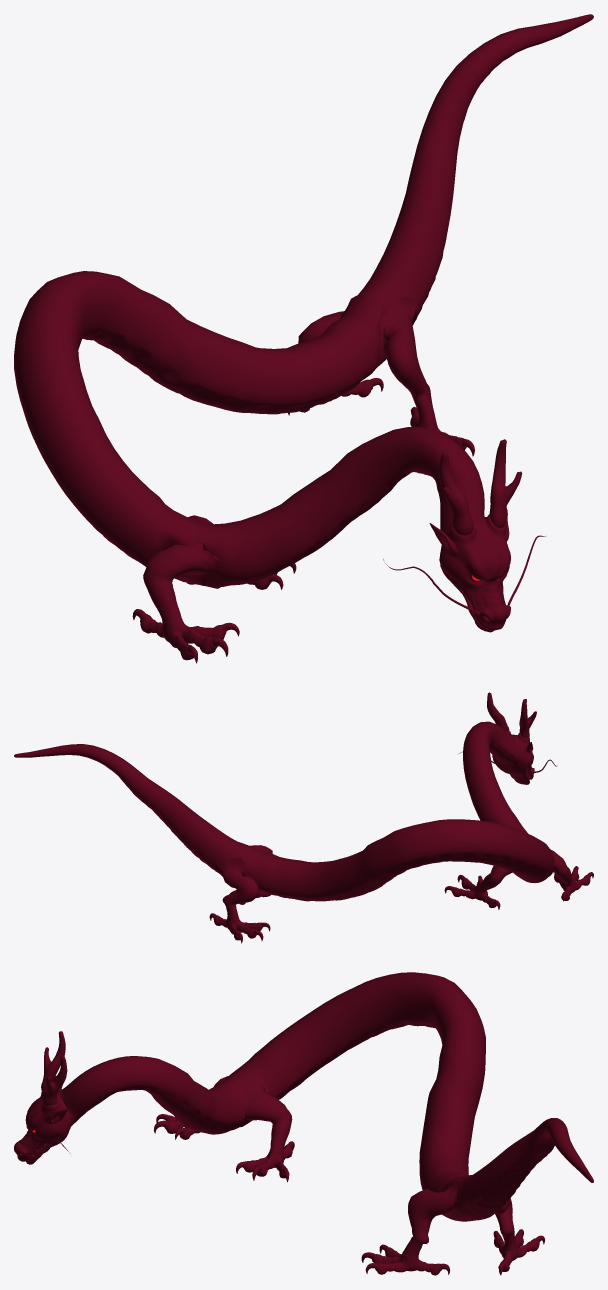
Rendered from dragon.glb.
3 renders of one model, top to bottom at view 1: azimuth 30°, elevation 25°; view 2: azimuth 150°, elevation 25°; view 3: azimuth 270°, elevation 25°, orthographic. The views are drawn at different scales.
Visible parts, largest first — view 1: Object_281; view 2: Object_281; view 3: Object_281.
Part boxes in pixels (<box>): Object_281: <box>14,14,593,663</box>; Object_281: <box>14,692,593,943</box>; Object_281: <box>14,972,593,1275</box>.
Size of the model in its own units: 2414 by 927 by 2292.
2 materials, 1 textured.
